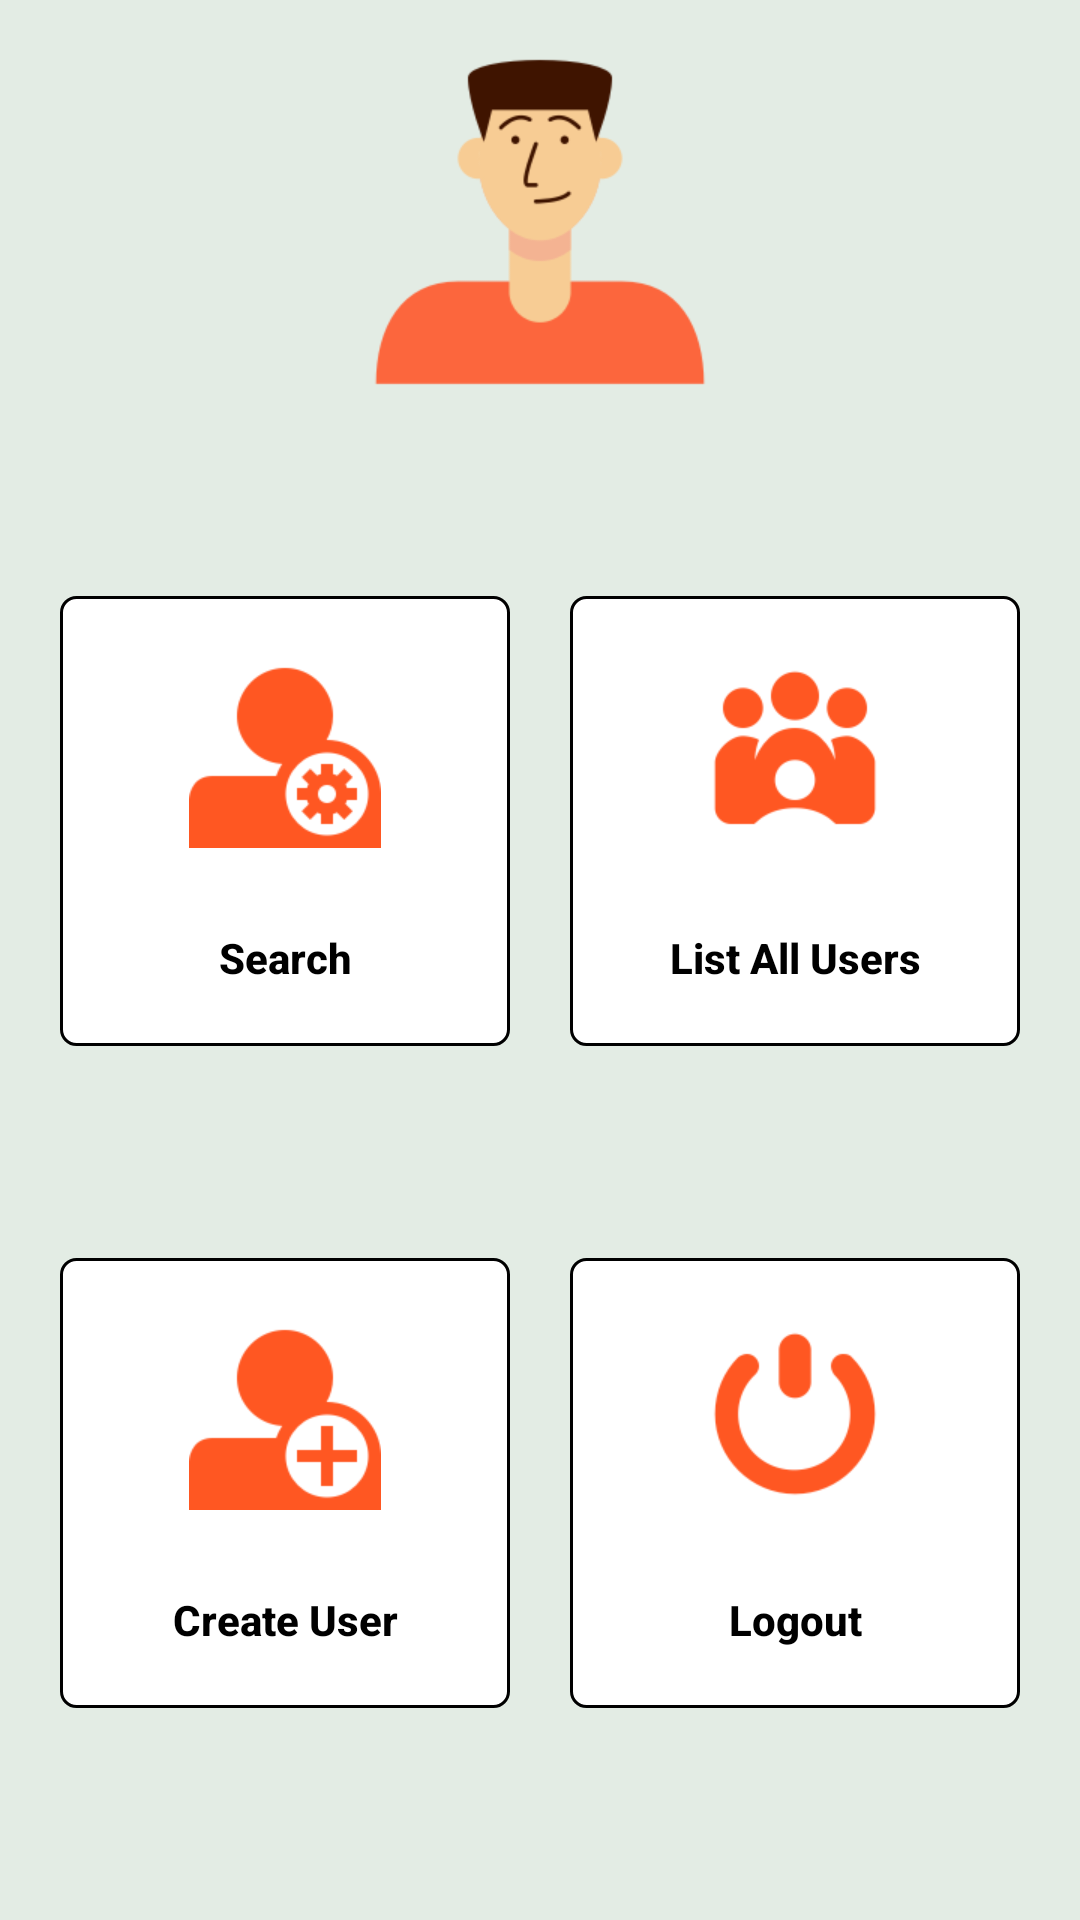

Locate icon controls on the screen. Image size 1080 × 1920, boxes as (x1, y1, x2, y2).
user: (375, 59, 705, 385)
